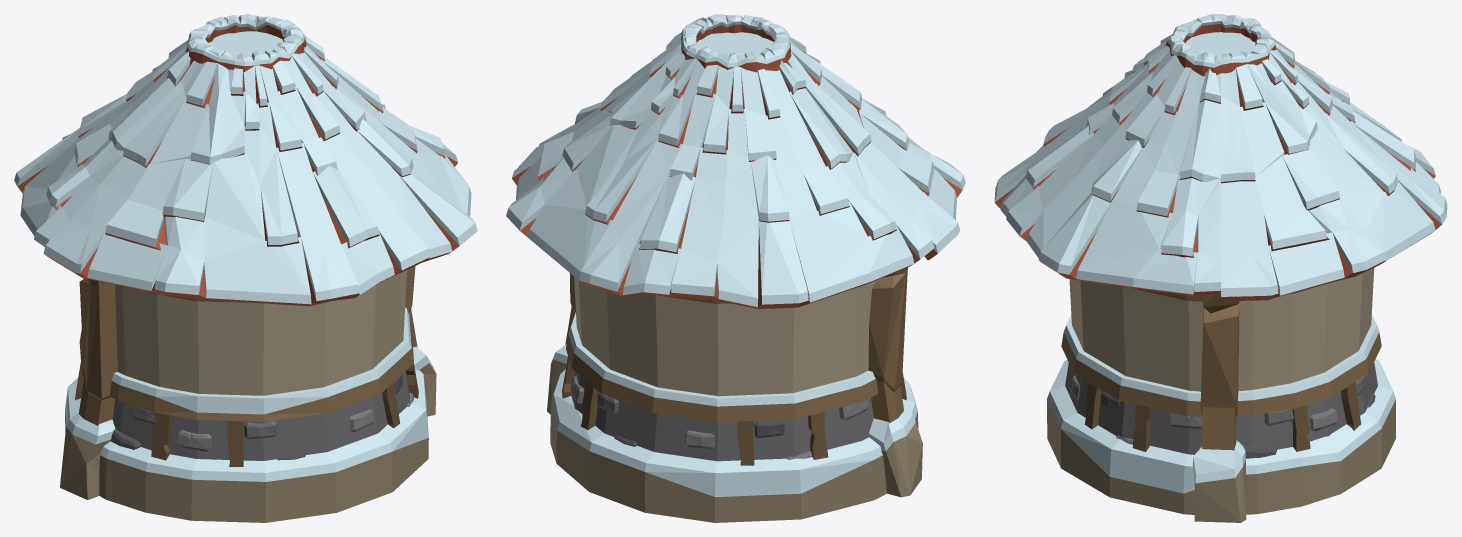
Rendered from SM_Bld_House_RoomRound_02_Snow.gltf.
3 views of the same model, side by side, from view 1: azimuth 30°, elevation 25°; view 2: azimuth 150°, elevation 25°; view 3: azimuth 270°, elevation 25° (orthographic). The views are drawn at different scales.
Parts seen in each view (by area): view 1: SM_Bld_House_RoomRound_02_Snow; view 2: SM_Bld_House_RoomRound_02_Snow; view 3: SM_Bld_House_RoomRound_02_Snow.
Boxes of the visible parts, x1=… form: SM_Bld_House_RoomRound_02_Snow: x1=14, y1=14, x2=477, y2=522; SM_Bld_House_RoomRound_02_Snow: x1=506, y1=14, x2=965, y2=522; SM_Bld_House_RoomRound_02_Snow: x1=994, y1=14, x2=1447, y2=522.
Bounding box in the file's own units: 4.4 × 4.31 × 4.39.
Materials: 1 (1 with a texture image).
